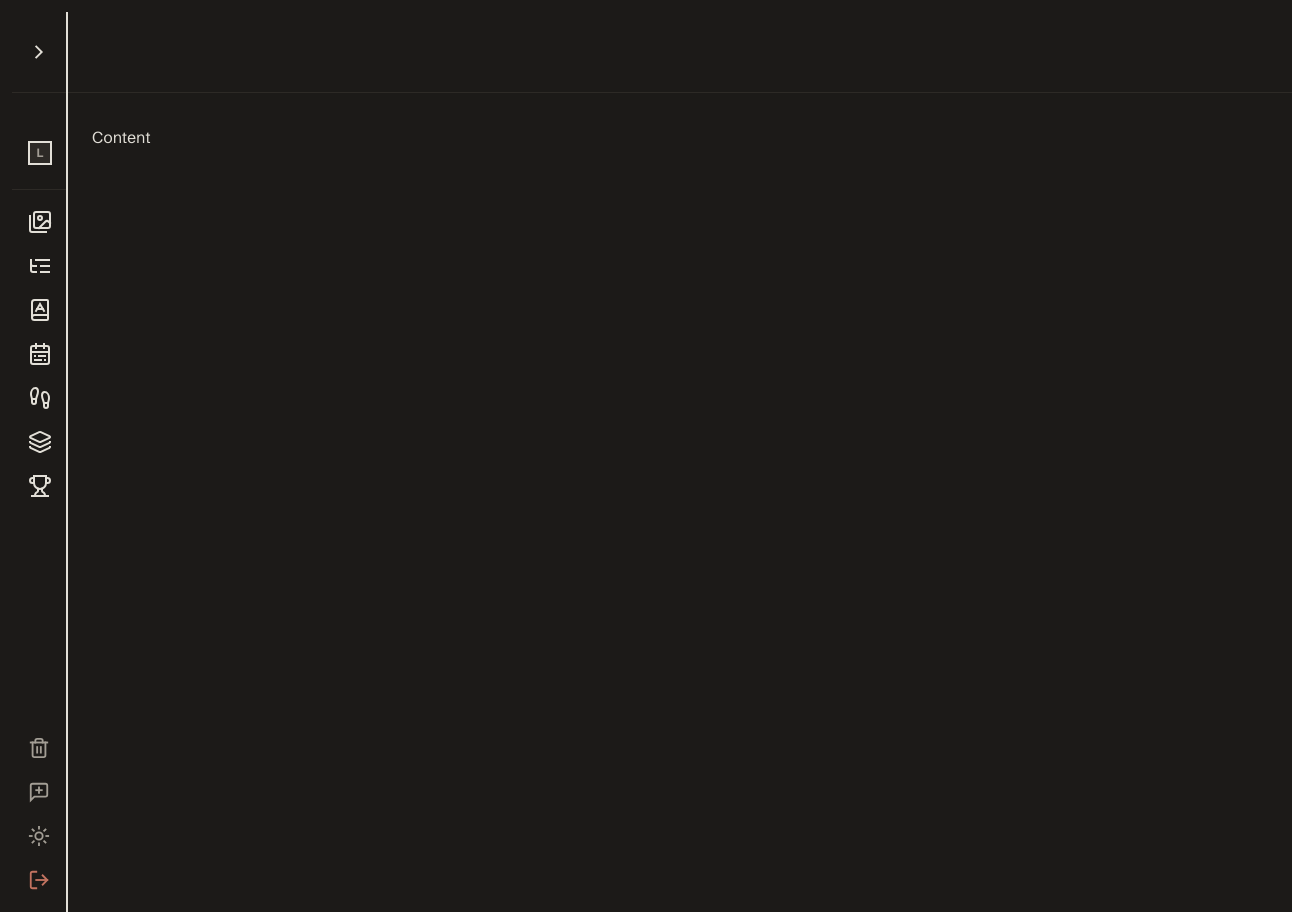
Scenario: AtelierLayout menu › on a larger screen › expands and collapses the side menu
Click the button named "Rozwiń menu".
click(39, 52)  # box [12,12,66,93]
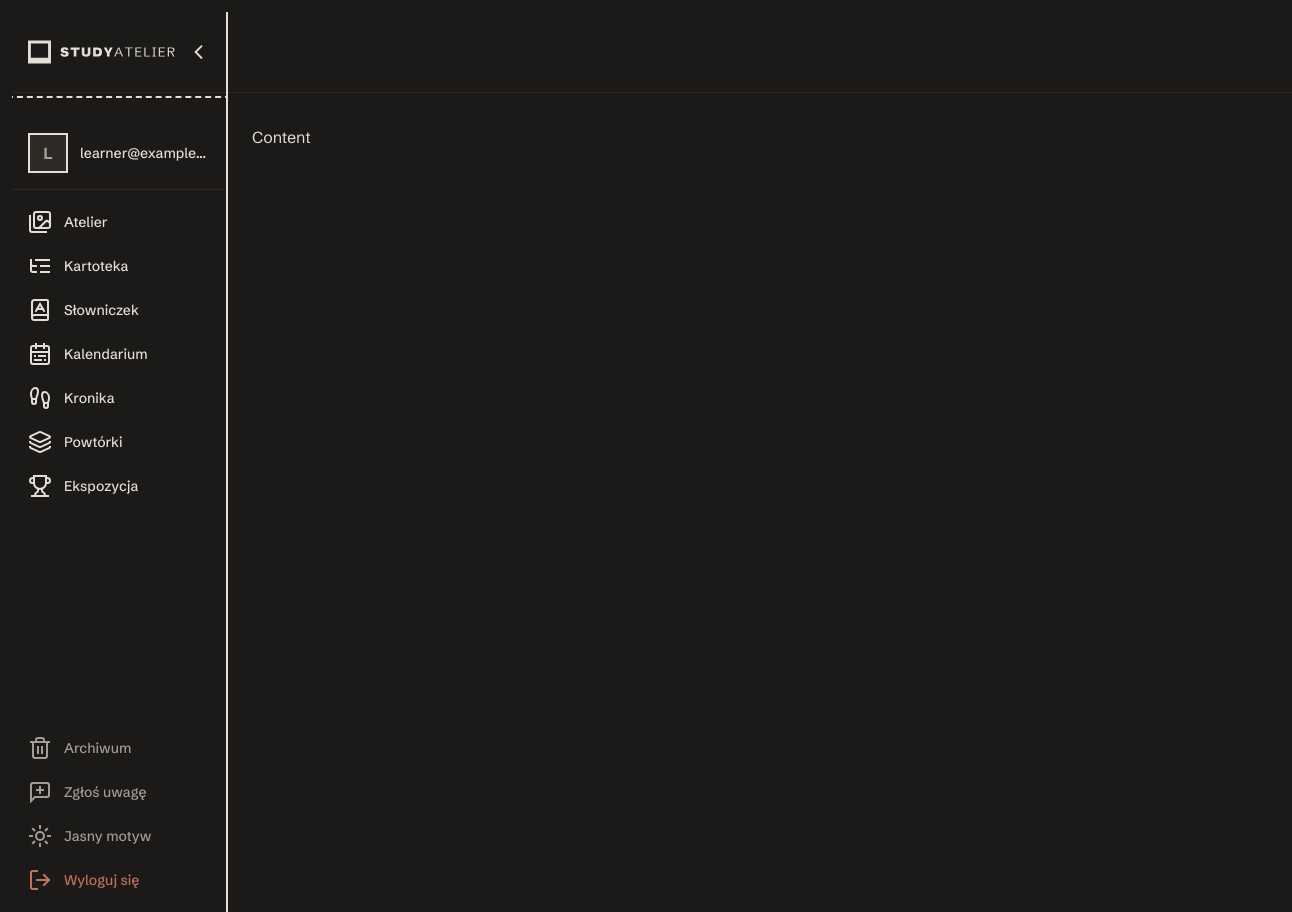
Result: the button named "Zwiń menu" is expanded
Result: the picture named "Study Atelier" is shown at [28,40,175,64]
Click the button named "Zwiń menu".
click(119, 52)  # box [12,12,226,93]
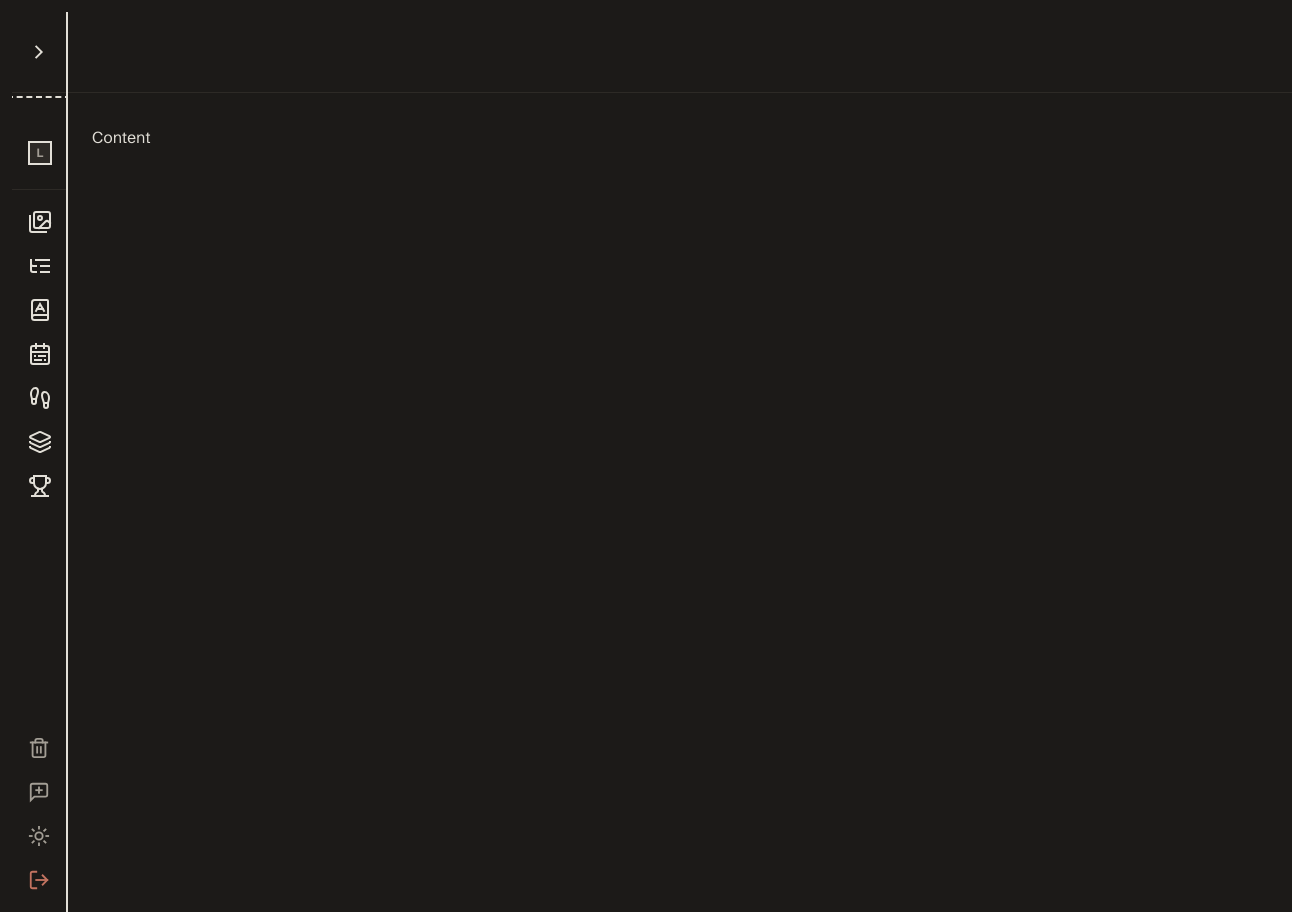
Result: the button named "Rozwiń menu" is collapsed at [12,12,66,93]
